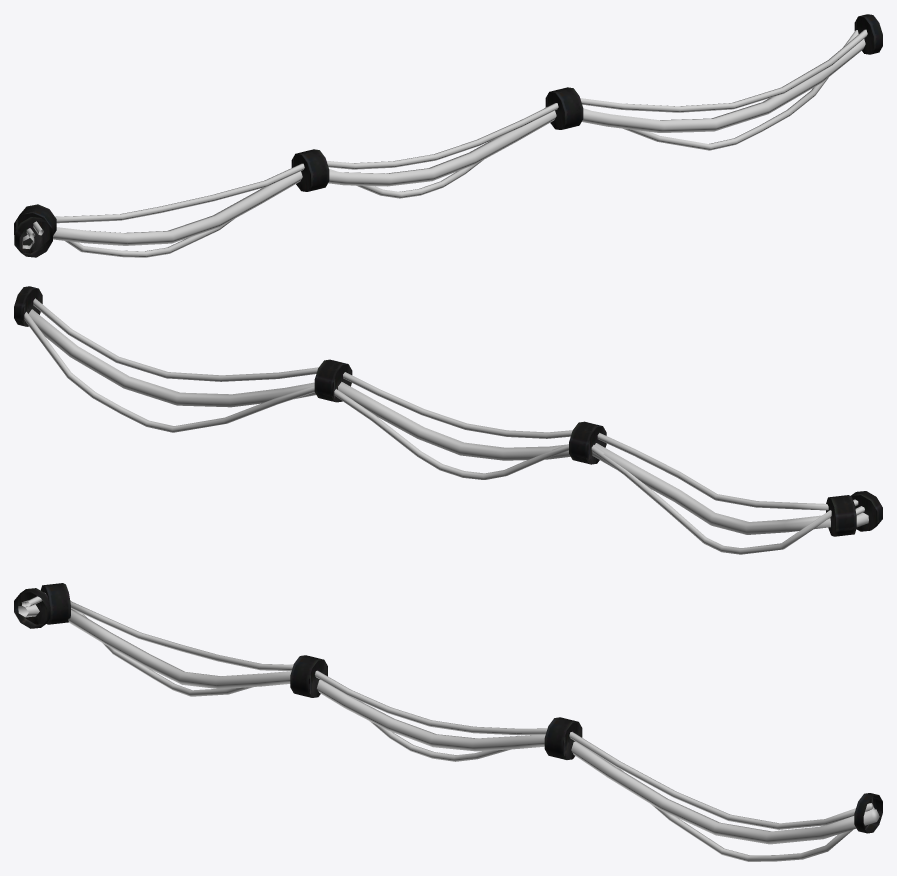
Rendered from cable_4m_corner_02.DAE.
3 views of the same model, one above another, from view 1: azimuth 30°, elevation 25°; view 2: azimuth 150°, elevation 25°; view 3: azimuth 330°, elevation 25° (orthographic).
Parts seen in each view (by area): view 1: cable_corner_02, cable_ring_corner_02; view 2: cable_corner_02, cable_ring_corner_02; view 3: cable_corner_02, cable_ring_corner_02.
Boxes of the visible parts, <box> form: cable_corner_02: <box>22,29,867,257</box>; cable_ring_corner_02: <box>14,14,882,257</box>; cable_corner_02: <box>24,298,868,554</box>; cable_ring_corner_02: <box>14,286,882,536</box>; cable_corner_02: <box>18,592,879,861</box>; cable_ring_corner_02: <box>14,583,882,833</box>.
Bounding box in the file's own units: 4.22 × 0.2666 × 0.4817.
